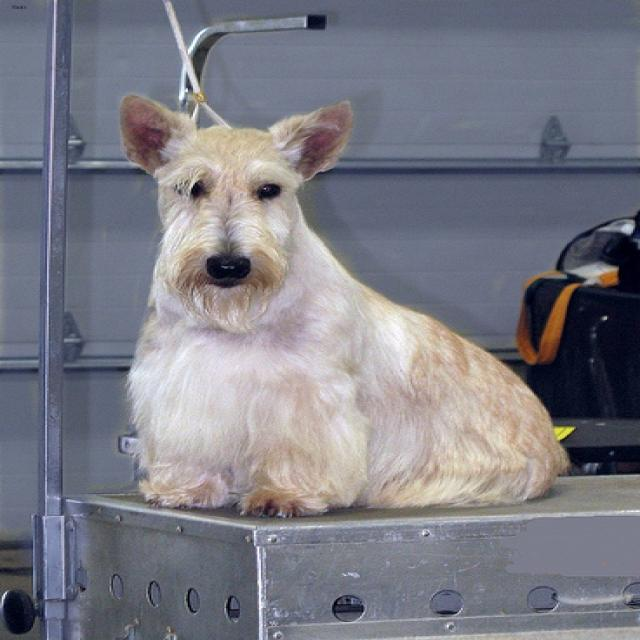dog-scottish_terrier: (99, 87, 577, 521)
